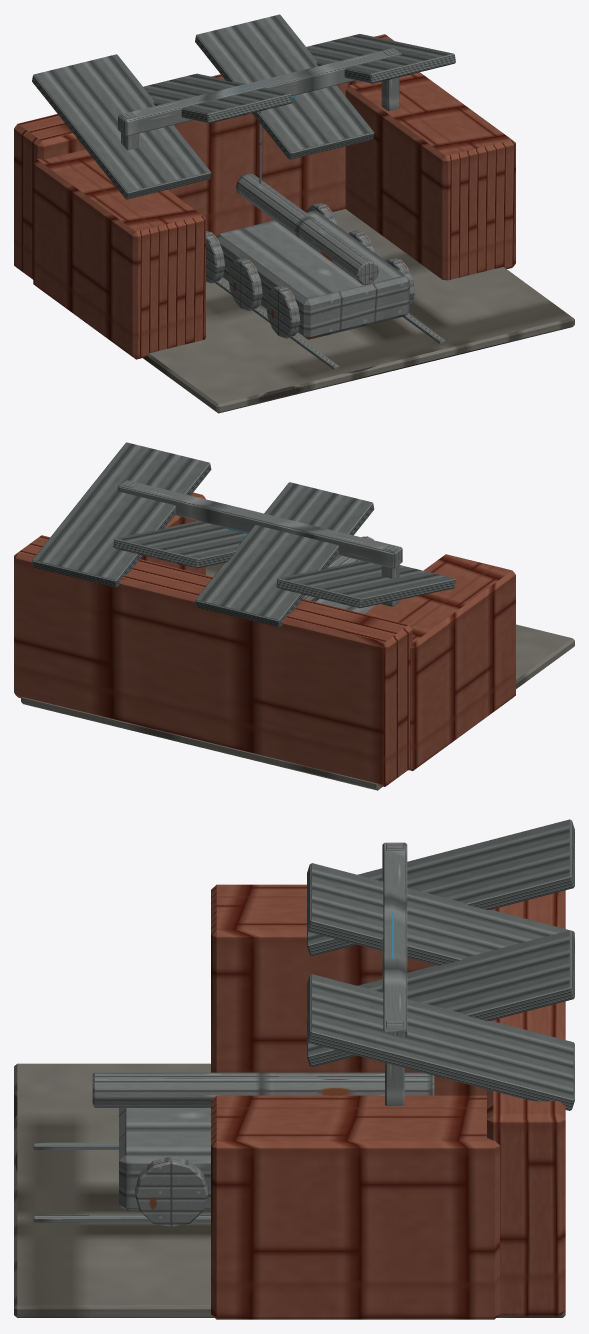
File: edificio-b_016-e4-lod0-Be6YuOSa.glb
The picture shows the model from 3 angles, top to bottom: view 1: azimuth 30°, elevation 25°; view 2: azimuth 150°, elevation 25°; view 3: azimuth 270°, elevation 25°; orthographic projection. The views are drawn at different scales.
Parts seen in each view (by area): view 1: envolvente_fabrica_asedio_e4, mecanismo_fabrica_asedio_e4; view 2: envolvente_fabrica_asedio_e4, mecanismo_fabrica_asedio_e4; view 3: envolvente_fabrica_asedio_e4, mecanismo_fabrica_asedio_e4.
Boxes of the visible parts, x1,y1,x2,y2 form: envolvente_fabrica_asedio_e4: (14, 14, 574, 413); mecanismo_fabrica_asedio_e4: (118, 48, 445, 369); envolvente_fabrica_asedio_e4: (14, 442, 574, 790); mecanismo_fabrica_asedio_e4: (118, 480, 402, 613); envolvente_fabrica_asedio_e4: (14, 819, 574, 1319); mecanismo_fabrica_asedio_e4: (33, 842, 434, 1226).
Bounding box in the file's own units: 47 × 23.39 × 42.7.
2 materials, 1 textured.
